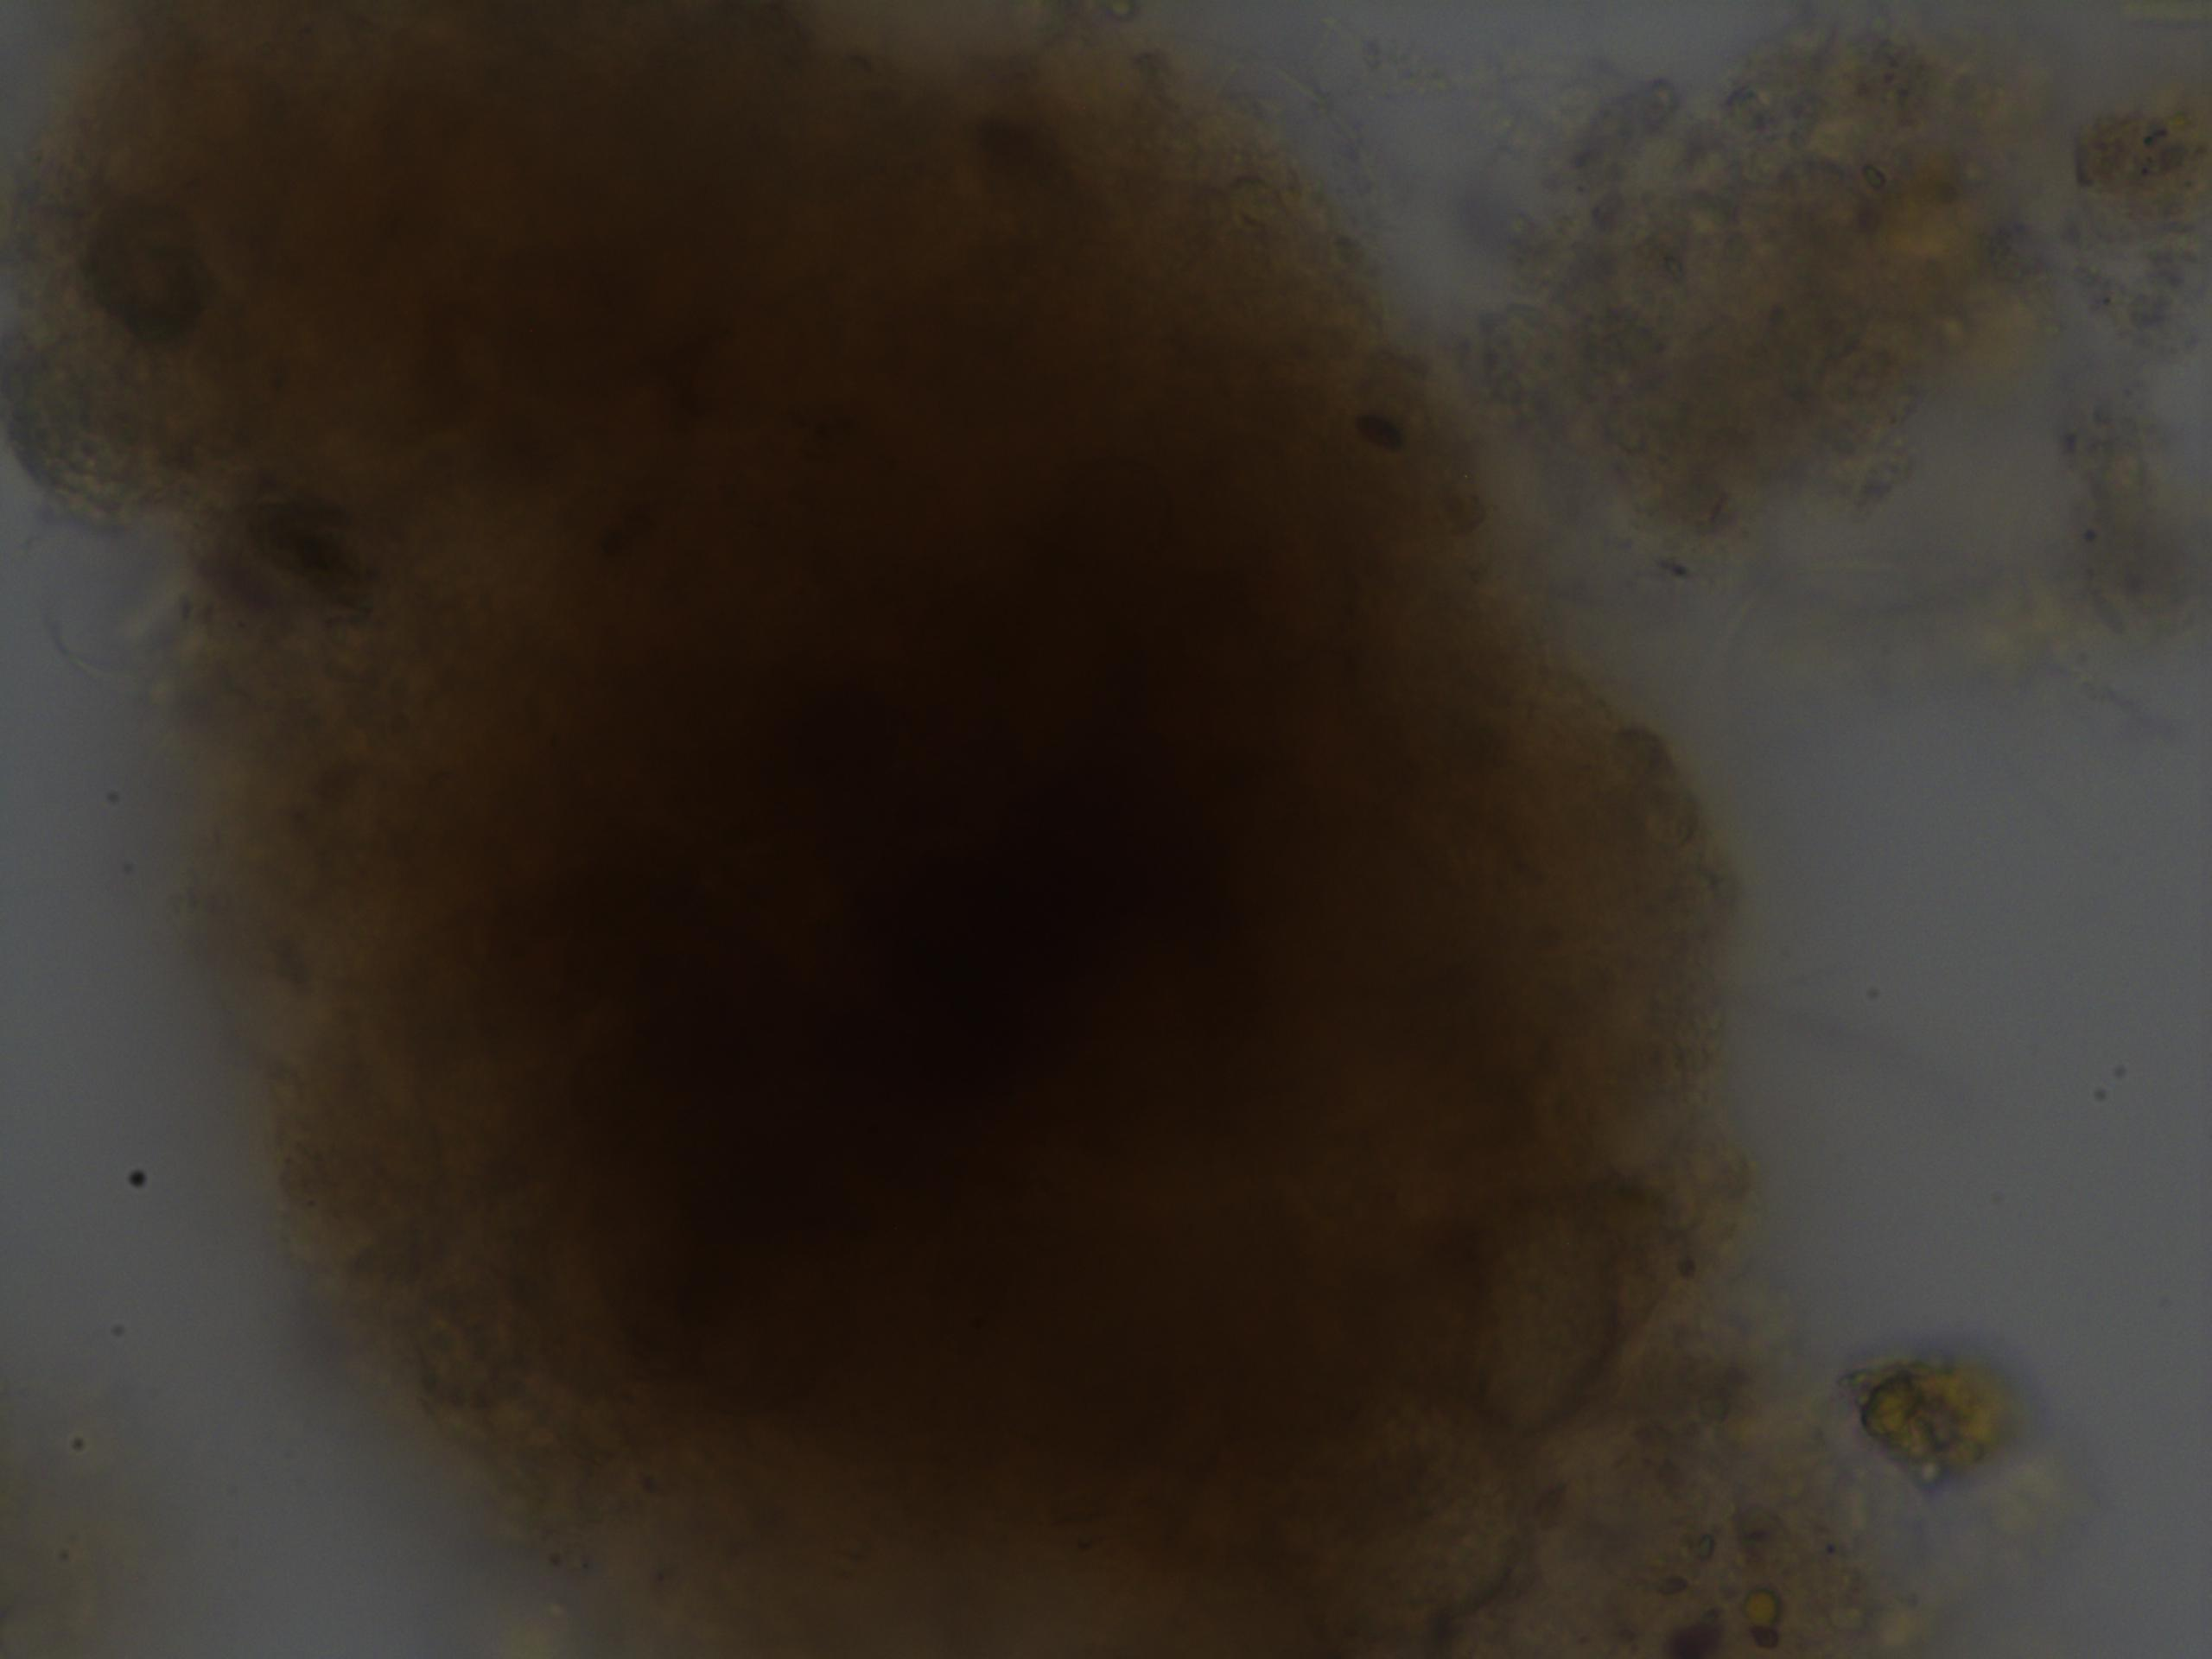spherical_floc: (0, 0, 1785, 1659)
